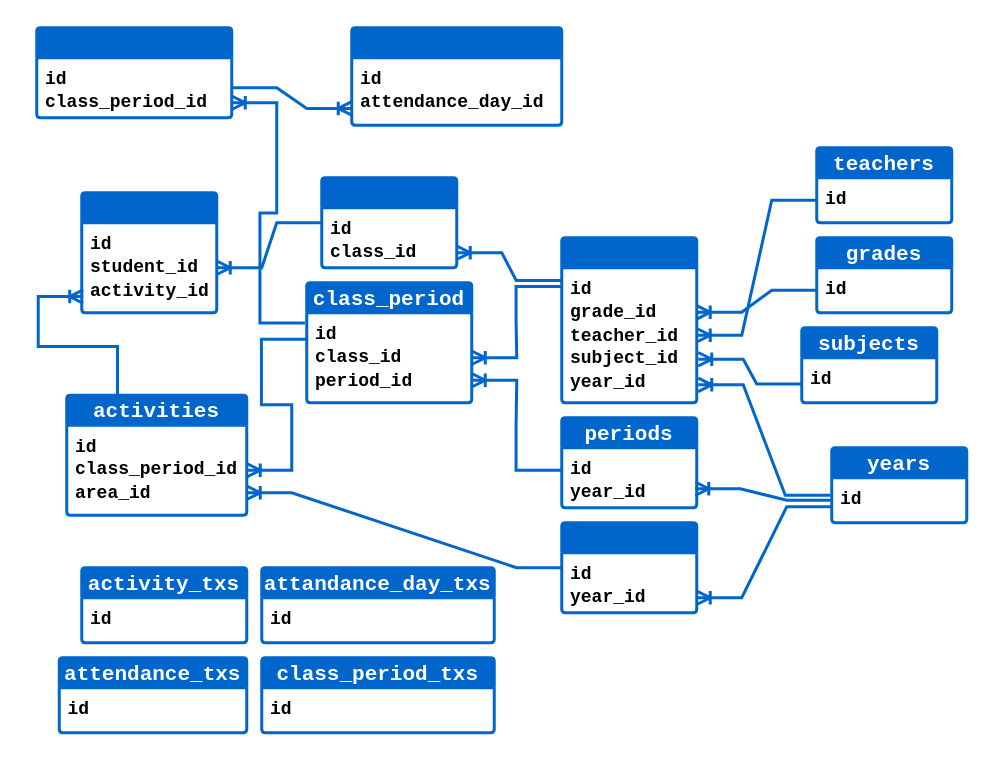
Image size: 995x759. Some labels were removed from this diagram. The box of each missing label's shape, as (x1, y1, x2, y2) in pixels:
areas: (560, 520, 698, 614)
attendance_days: (34, 26, 232, 118)
attendances: (350, 26, 562, 126)
classes: (560, 236, 698, 404)
scores: (80, 190, 218, 314)
students: (320, 176, 458, 268)
